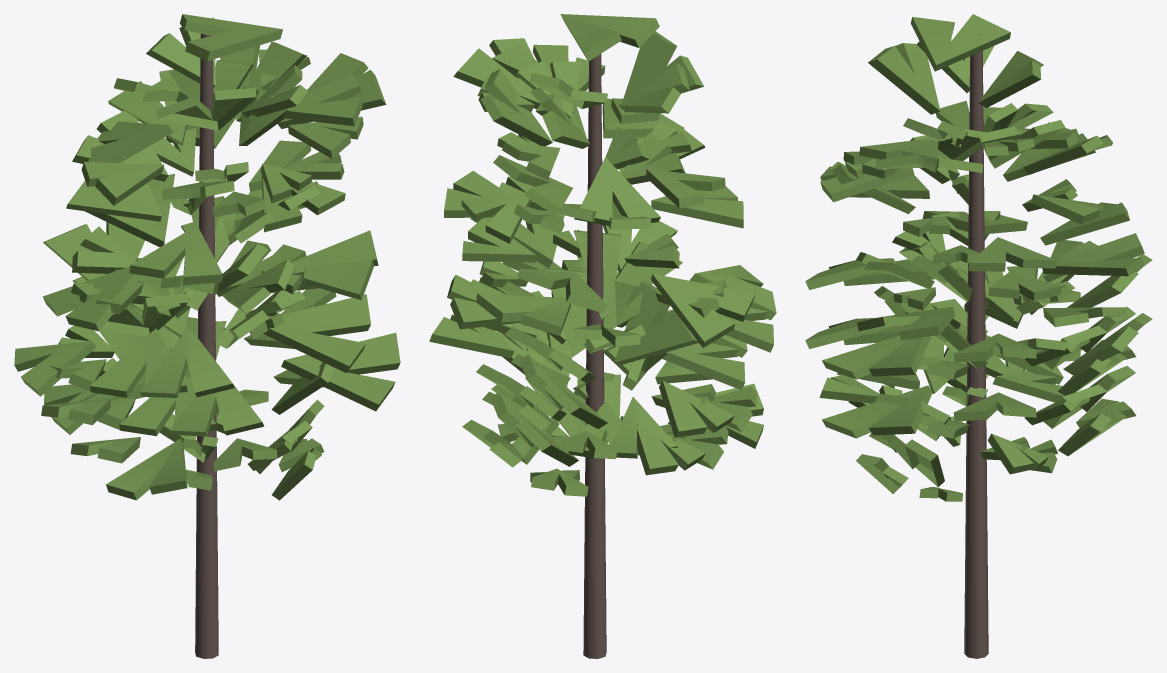
Rendered from tree_mini.glb.
The picture shows the model from 3 angles, left to right: view 1: azimuth 30°, elevation 25°; view 2: azimuth 150°, elevation 25°; view 3: azimuth 270°, elevation 25°; orthographic projection. The views are drawn at different scales.
Parts seen in each view (by area): view 1: 对象002, Cylinder001; view 2: 对象002, Cylinder001; view 3: 对象002, Cylinder001.
Part boxes in pixels (x1,y1,x2,y2): 对象002: (14,14,400,500); Cylinder001: (195,19,218,658); 对象002: (429,14,776,496); Cylinder001: (583,35,606,658); 对象002: (805,14,1152,501); Cylinder001: (964,33,988,658).
Size of the model in its own units: 3.77 by 7.35 by 3.68.
